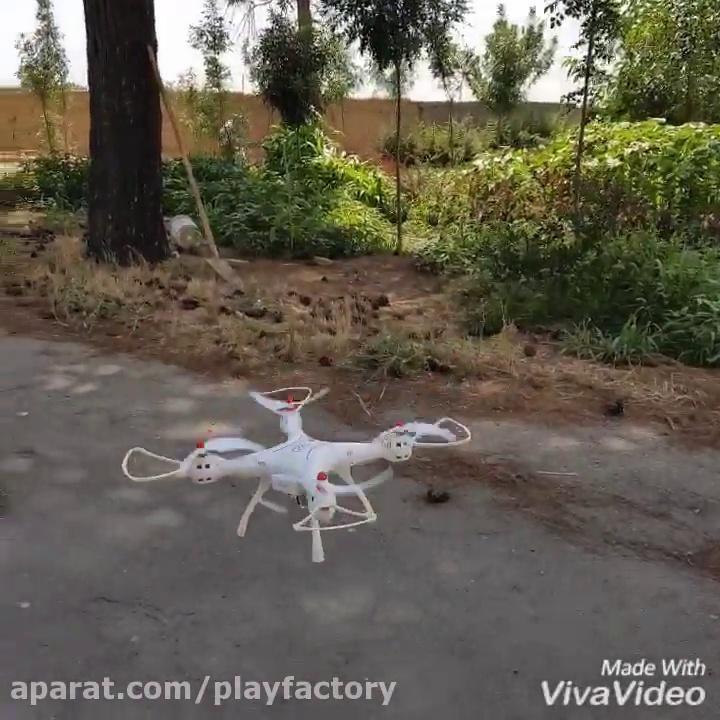drone: (121, 384, 472, 564)
